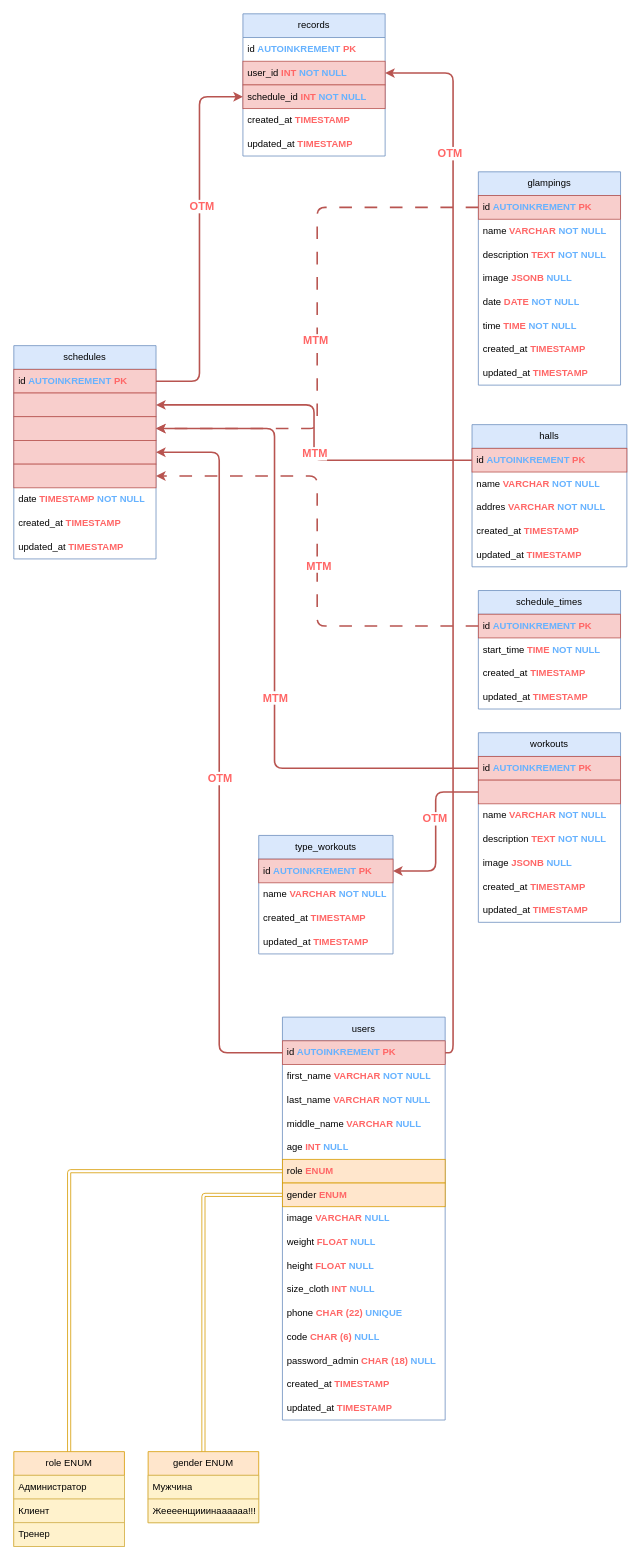
The diagram is 641 pixels wide and 1560 high, and some of its shapes have lost their labels. The shapes that lost their labels are listed below. From the top down, each one's centre as x and y in pixels, then its label:
the point at 84,404: hall_id INT FK
the point at 84,428: workout_id INT FK
the point at 84,452: couch_id INT FK
the point at 84,475: schedule_time_id INT FK
the point at 549,791: type_workout_id INT FK
